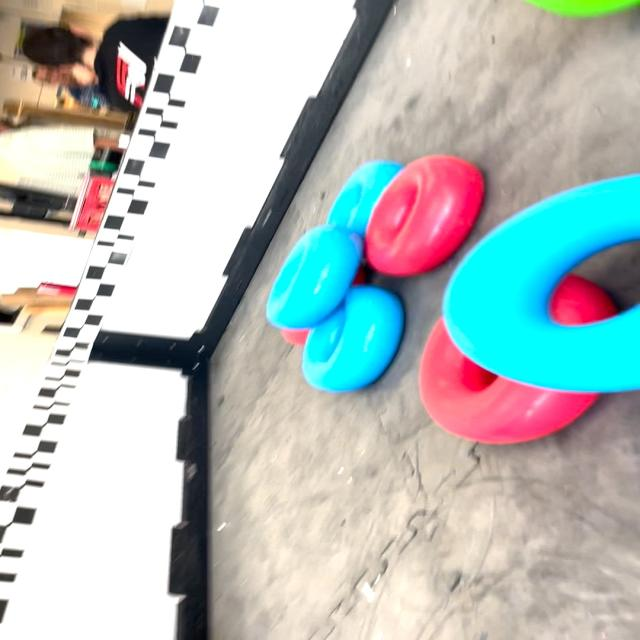Blue-Ring: (442, 175, 640, 392), (302, 285, 404, 392), (267, 224, 362, 329), (327, 160, 402, 236)
Red-Ring: (420, 320, 598, 444), (364, 155, 484, 277)
